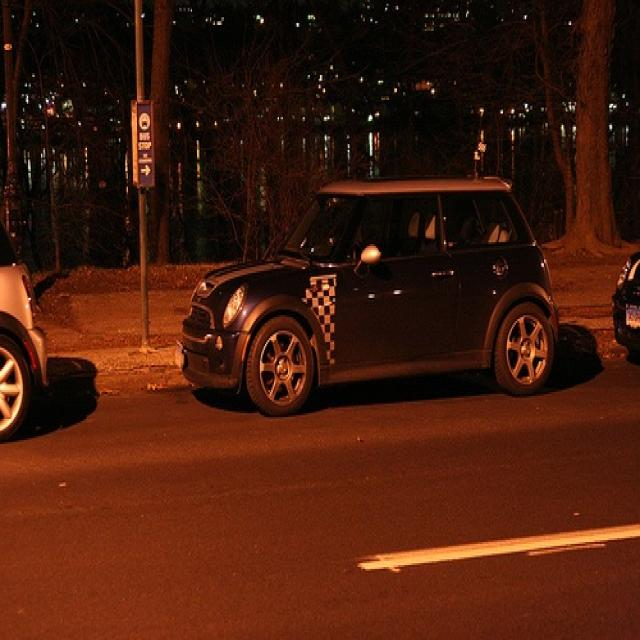car: (167, 157, 564, 431), (0, 227, 52, 447), (605, 221, 640, 352)
